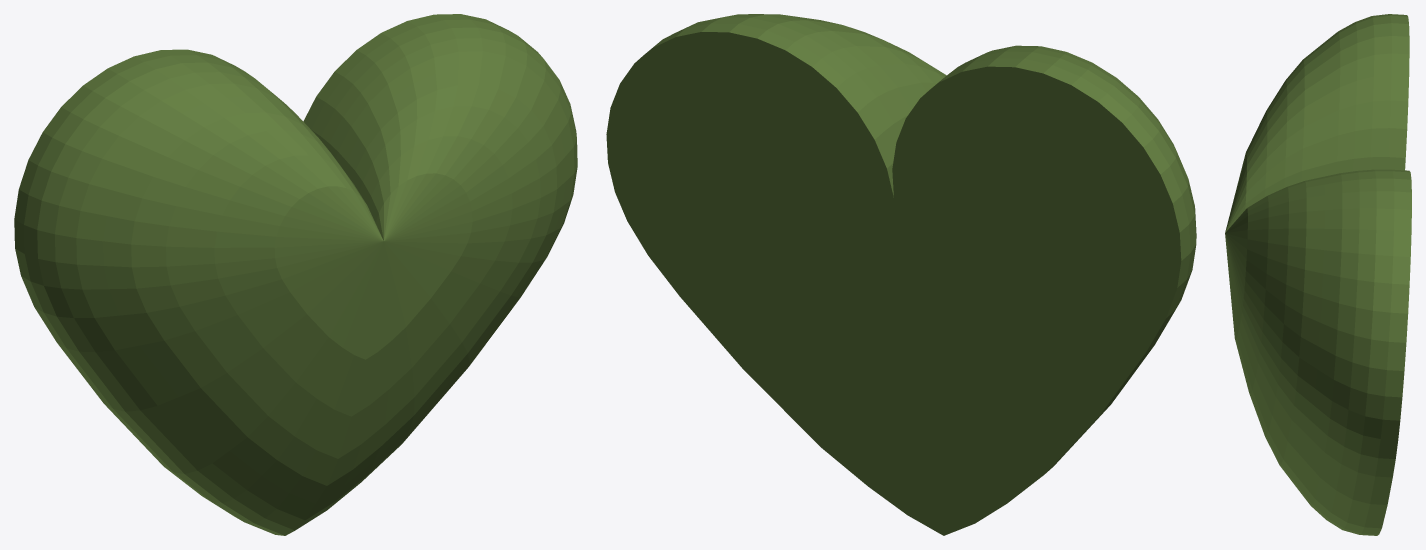
Rendered from Heart.fbx.
3 renders of one model, left to right at view 1: azimuth 30°, elevation 25°; view 2: azimuth 150°, elevation 25°; view 3: azimuth 270°, elevation 25°, orthographic. The views are drawn at different scales.
Parts seen in each view (by area): view 1: Heart; view 2: Heart; view 3: Heart.
Boxes of the visible parts, x1,y1,x2,y2 form: Heart: (14, 14, 577, 535); Heart: (606, 14, 1196, 535); Heart: (1225, 14, 1411, 535).
Size of the model in its own units: 398 by 338 by 125.
